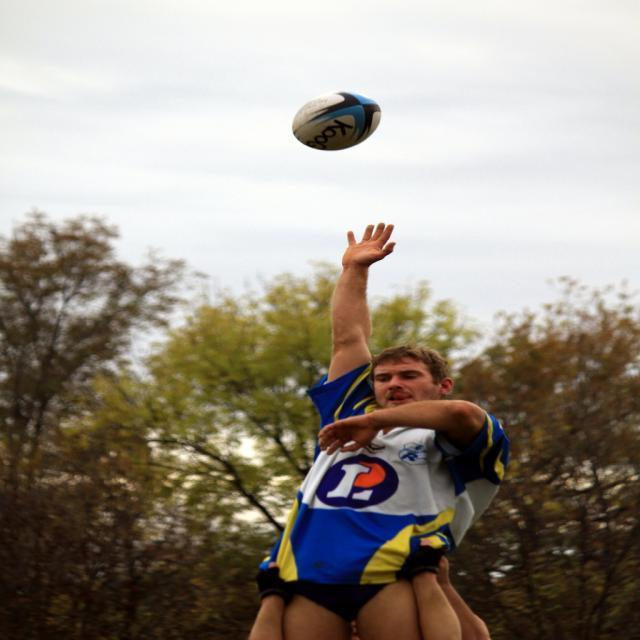ball: (289, 90, 381, 149)
